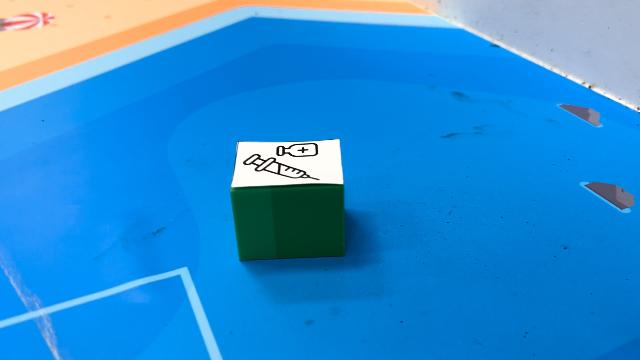syringe: (232, 140, 346, 264)
